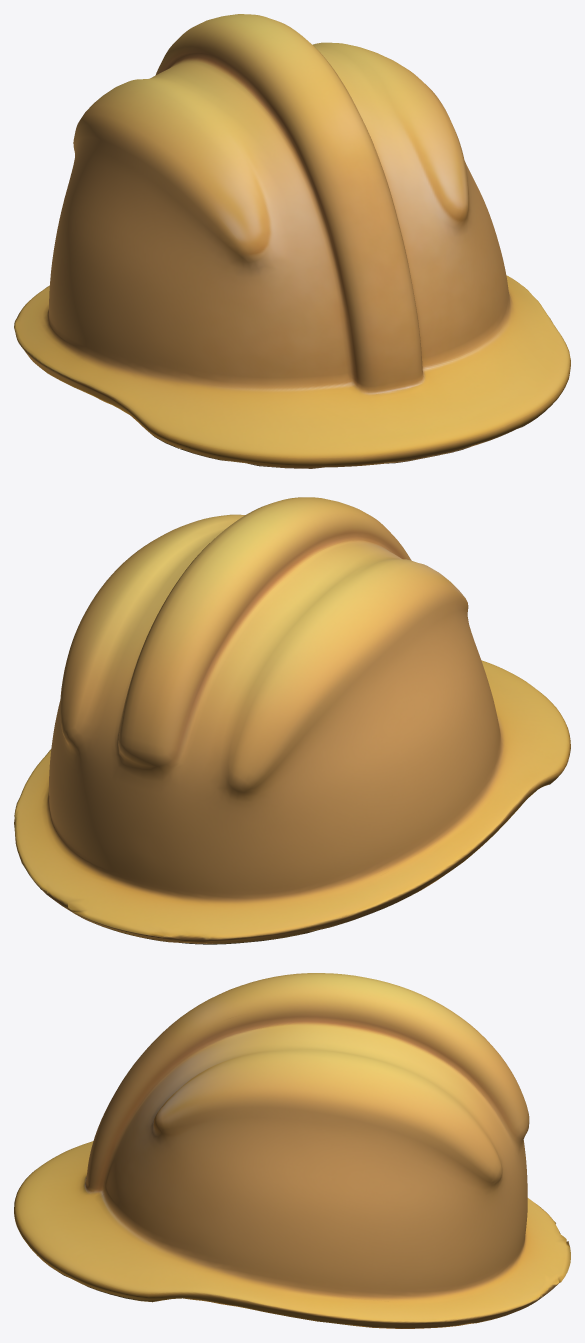
File: Miner Cap.fbx
3 renders of one model, top to bottom at view 1: azimuth 30°, elevation 25°; view 2: azimuth 150°, elevation 25°; view 3: azimuth 270°, elevation 25°, orthographic. The views are drawn at different scales.
Visible parts, largest first — view 1: Miner Cap; view 2: Miner Cap; view 3: Miner Cap.
Boxes of the visible parts, x1,y1,x2,y2 form: Miner Cap: [14, 14, 570, 468]; Miner Cap: [14, 497, 570, 944]; Miner Cap: [14, 973, 570, 1328].
Size of the model in its own units: 51.62 by 37.3 by 65.87.
